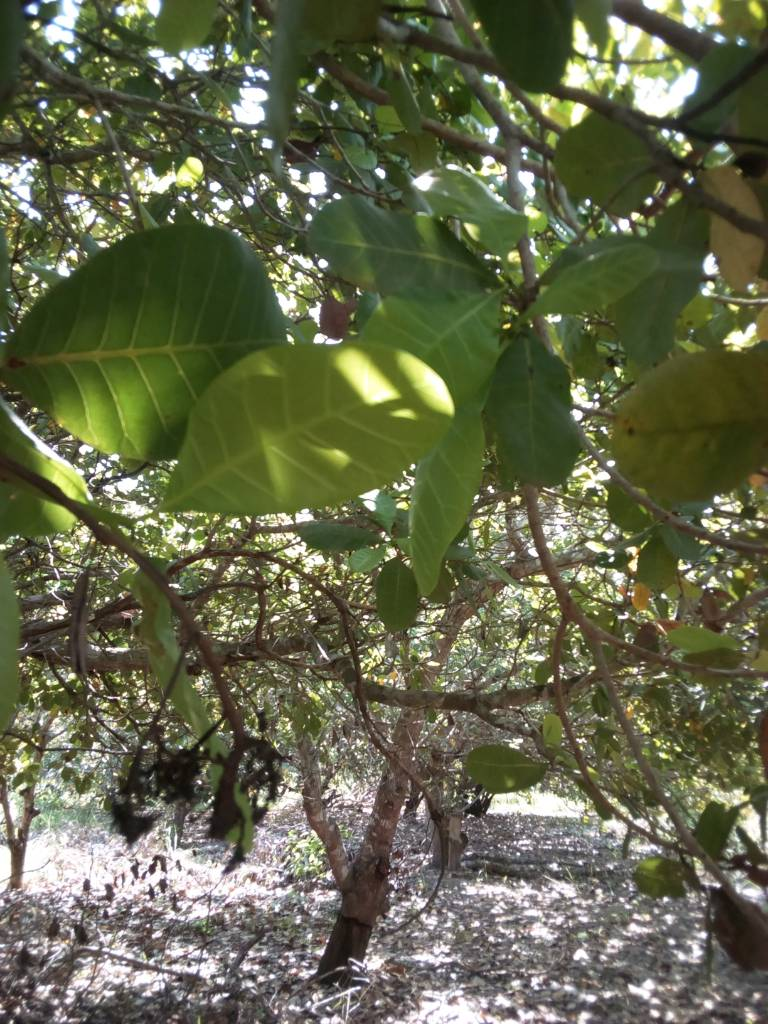Dessèchement des bourgeons: (104, 699, 288, 850)
